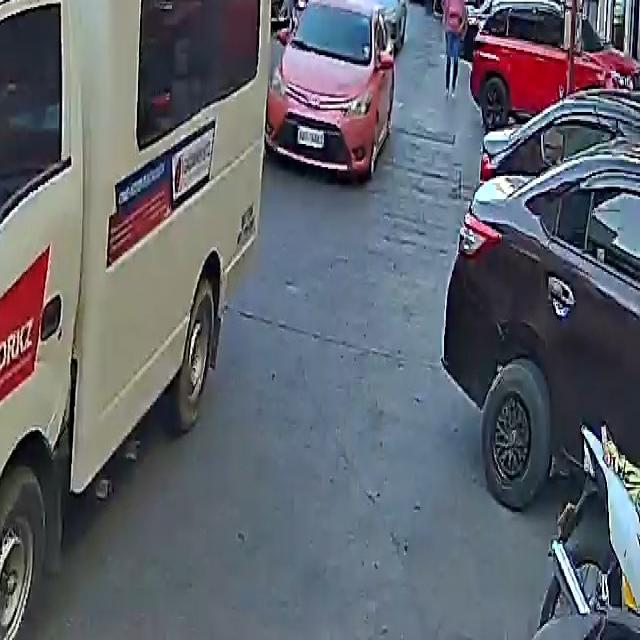car: (444, 110, 640, 520), (268, 0, 404, 185), (467, 0, 640, 130)
